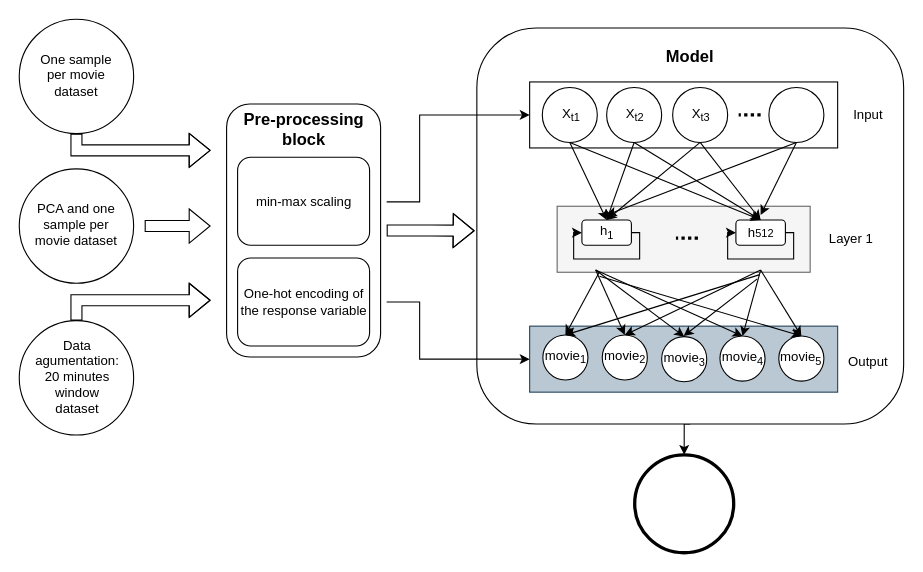
The diagram is 923 pixels wide and 572 high, and some of its shapes have lost their labels. Here are the shapes that lost their labels. From the top down, the box of each, then its label:
(768, 86, 824, 142): X t324
(634, 454, 734, 553): Final model decision
